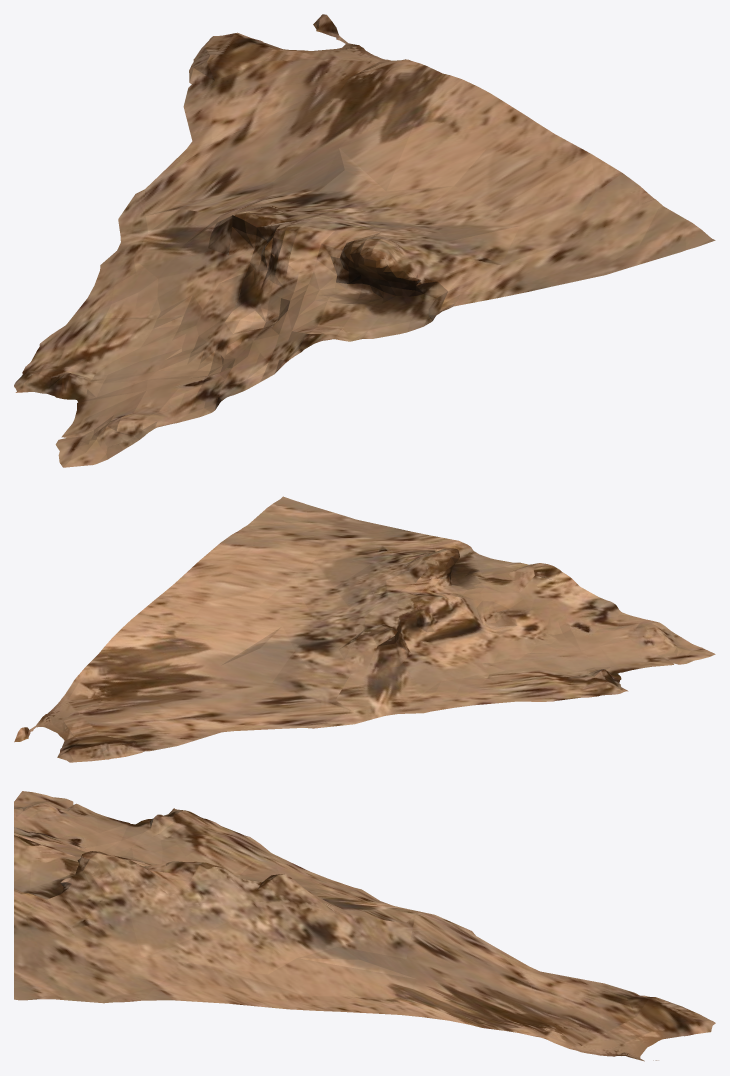
3 renders of one model, top to bottom at view 1: azimuth 30°, elevation 25°; view 2: azimuth 150°, elevation 25°; view 3: azimuth 270°, elevation 25°, orthographic. The views are drawn at different scales.
Bounding box in the file's own units: 1.62 × 0.2391 × 1.77.
Materials: 1 (1 with a texture image).
